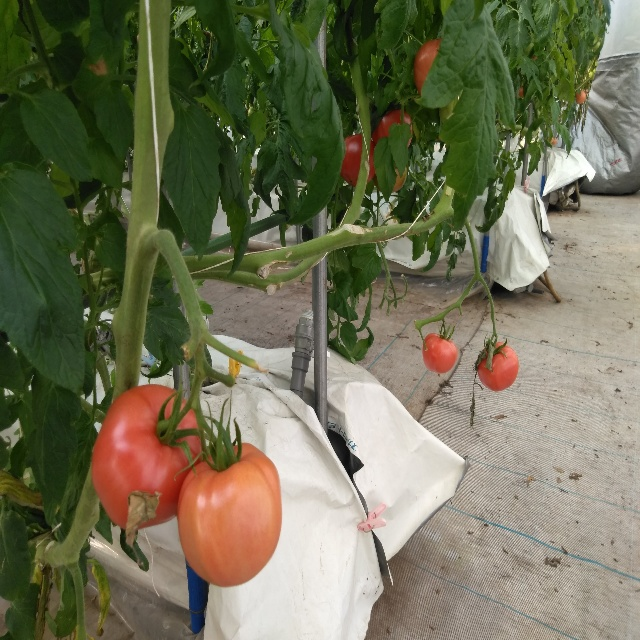b_fully_ripened: (91, 384, 204, 530), (340, 133, 379, 187), (477, 342, 519, 392), (422, 332, 458, 373)
b_half_ripened: (176, 442, 282, 588)
